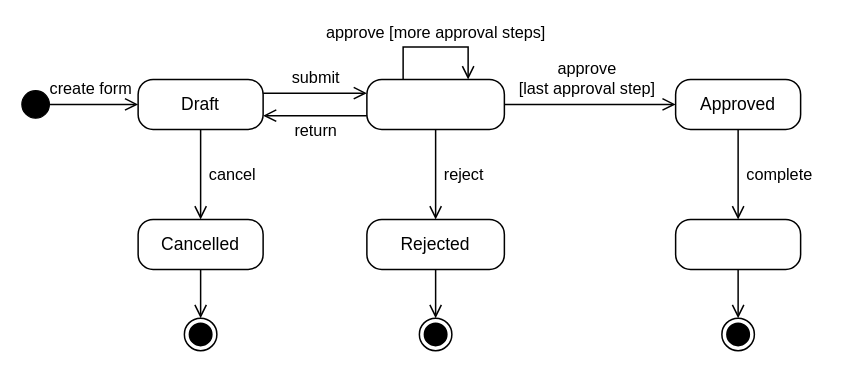
The diagram is 856 pixels wide and 373 high, and some of its shapes have lost their labels. The shapes that lost their labels are listed below. From the top down, each one's centre as x and y in pixels, then its label:
At point (435, 104): "Pending approval".
At point (737, 244): "Completed".
